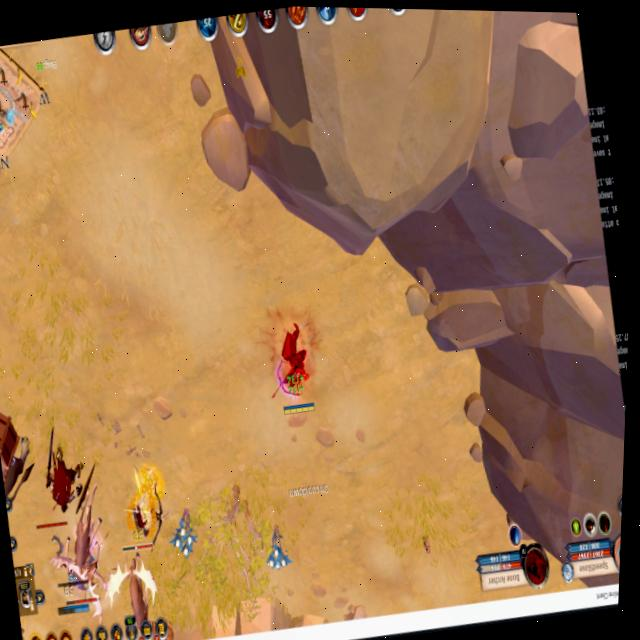hide: (166, 511, 201, 562), (261, 524, 295, 575)
ore: (20, 434, 107, 539), (40, 506, 114, 626), (115, 464, 170, 557)
red: (269, 325, 322, 420), (55, 598, 97, 623)
